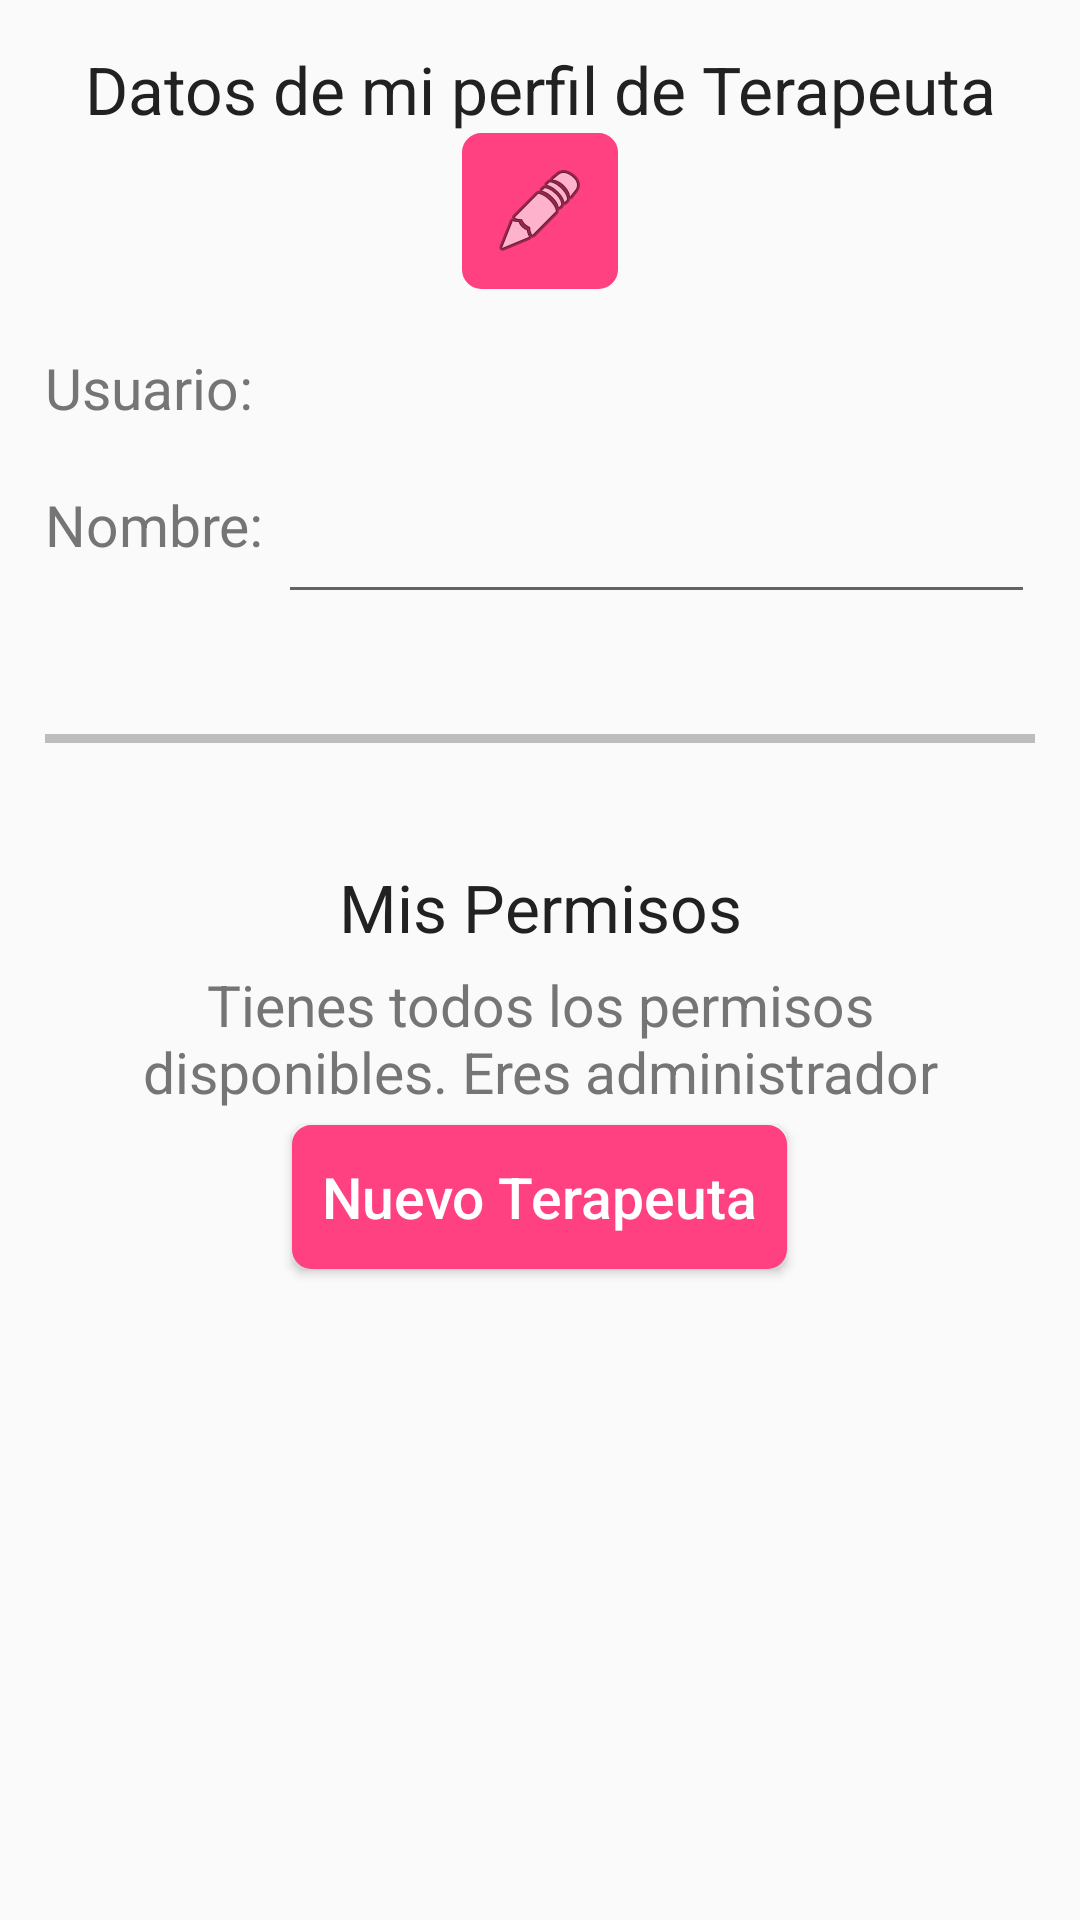

Screen size 1080px×1920px. Icon name, then its center in pixels as (x=x, y=y):
edit: (x=540, y=211)
